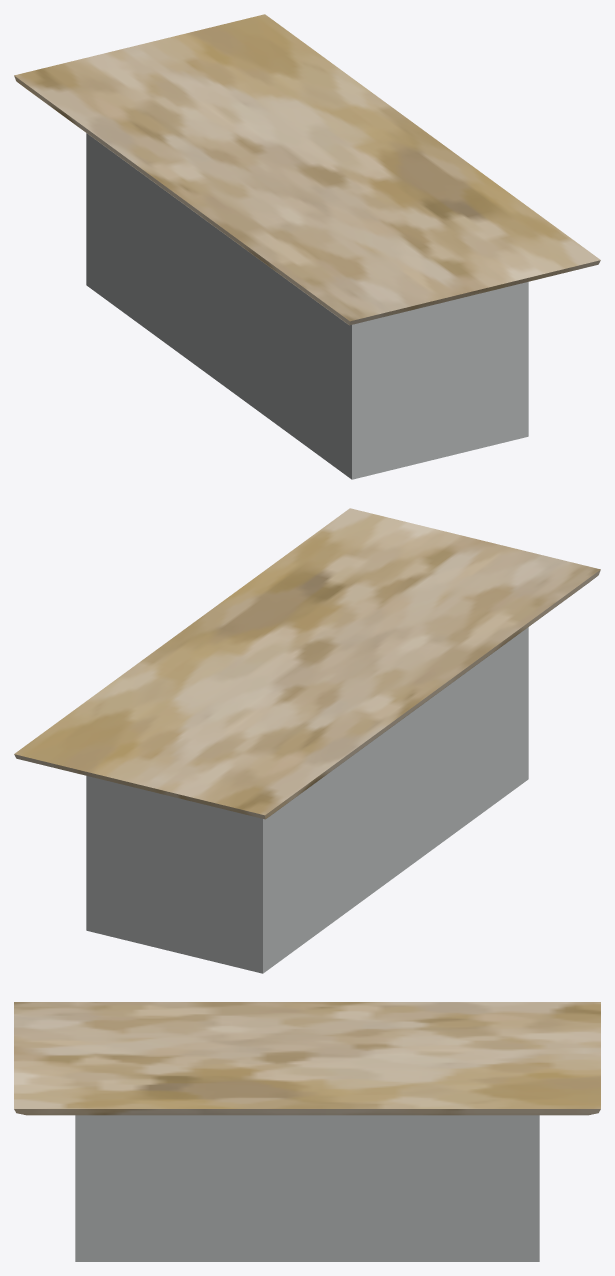
The model's file is kitchen_table.fbx.
3 views of the same model, one above another, from view 1: azimuth 30°, elevation 25°; view 2: azimuth 150°, elevation 25°; view 3: azimuth 270°, elevation 25° (orthographic). The views are drawn at different scales.
Parts seen in each view (by area): view 1: Cube.062; view 2: Cube.062; view 3: Cube.062.
Boxes of the visible parts, box(x1,y1,x2,y2) form: Cube.062: box(14, 14, 600, 479); Cube.062: box(14, 508, 600, 973); Cube.062: box(14, 1002, 600, 1261).
Size of the model in its own units: 311 by 229 by 721.
